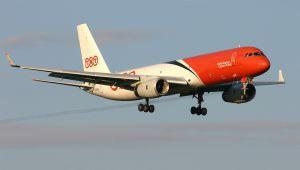airplane: (4, 24, 288, 116)
